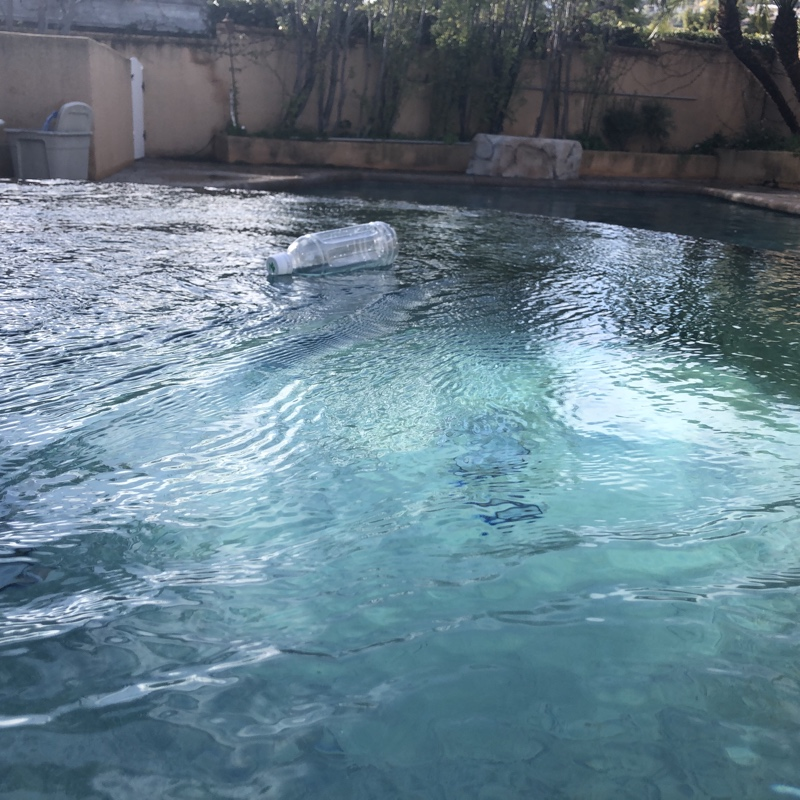Plastic Bottle: (259, 217, 404, 284)
